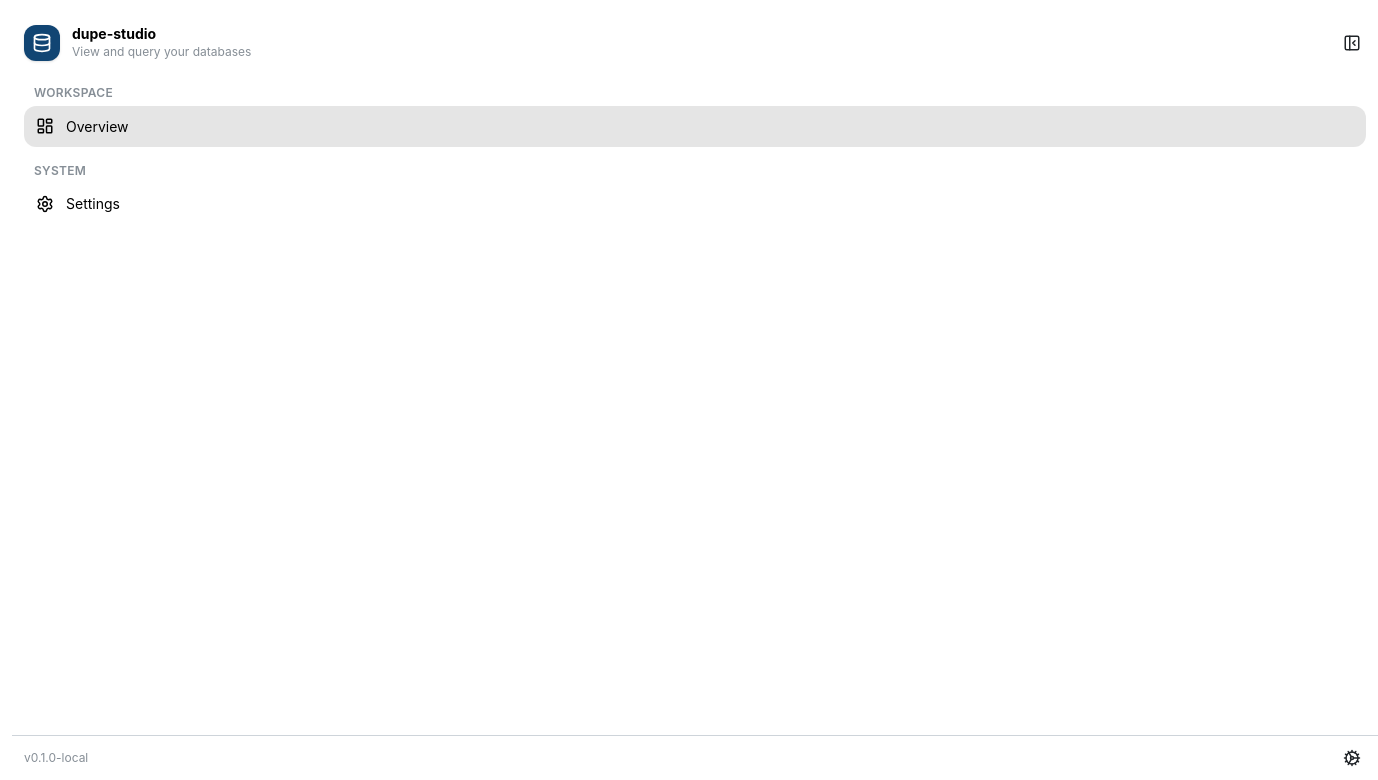
Test: AppSidebar › navigates to an entry's path when selected
Click the text "Settings" at point(93, 204), box [66,196,120,212]
(page scrolled)
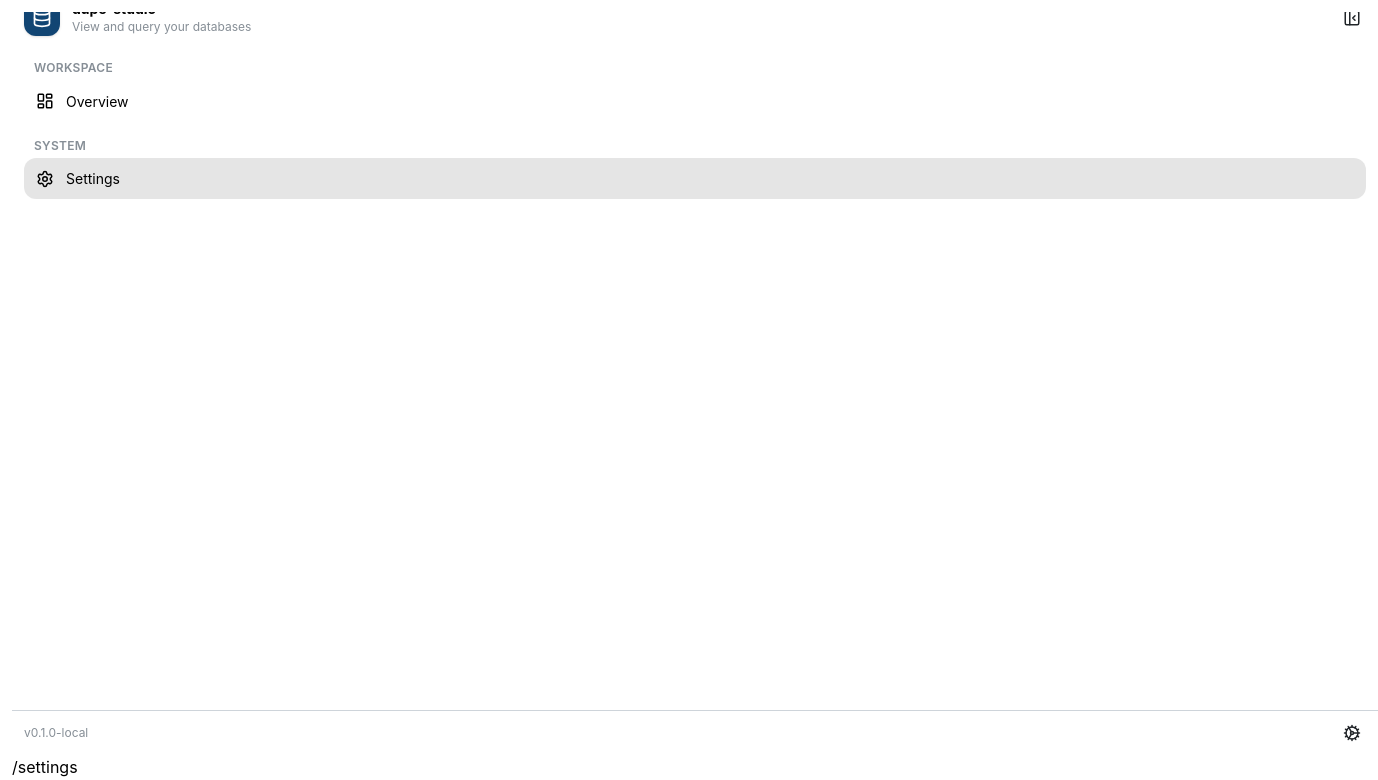
Now the text with test id "pathname" reads "/settings", box [12,757,78,777]
